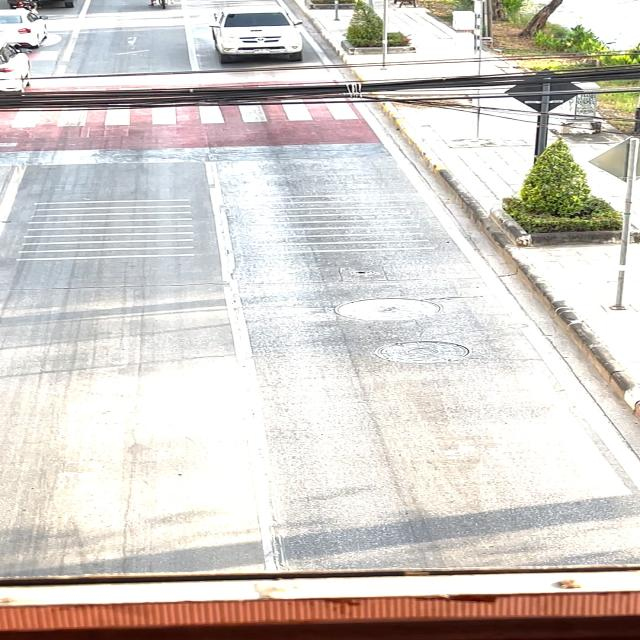car: (205, 0, 310, 74)
